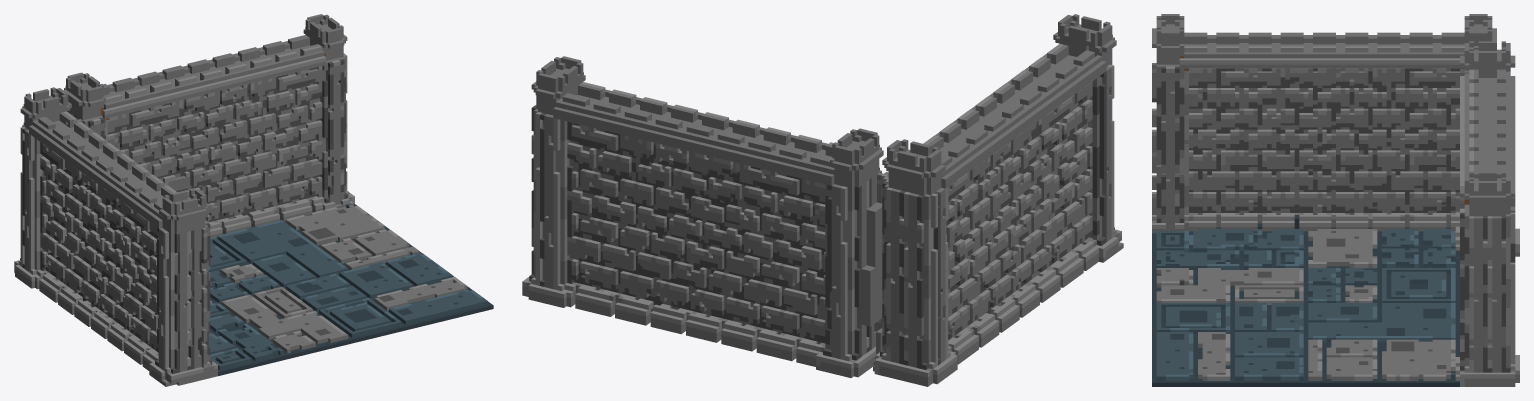
File: wall_E_esquina_arriba_izquierda.obj
The picture shows the model from 3 angles, left to right: view 1: azimuth 30°, elevation 25°; view 2: azimuth 150°, elevation 25°; view 3: azimuth 270°, elevation 25°; orthographic projection. The views are drawn at different scales.
Size of the model in its own units: 91 by 48 by 80.
1 material, 1 textured.
